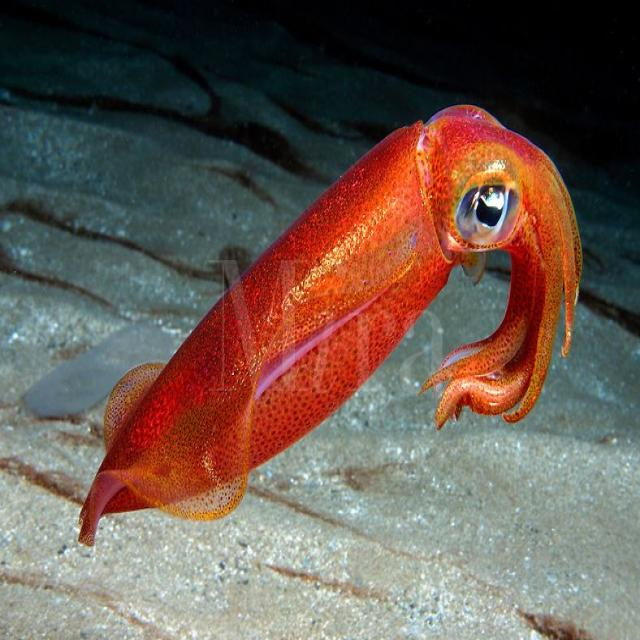SQUID: (64, 74, 591, 578)
